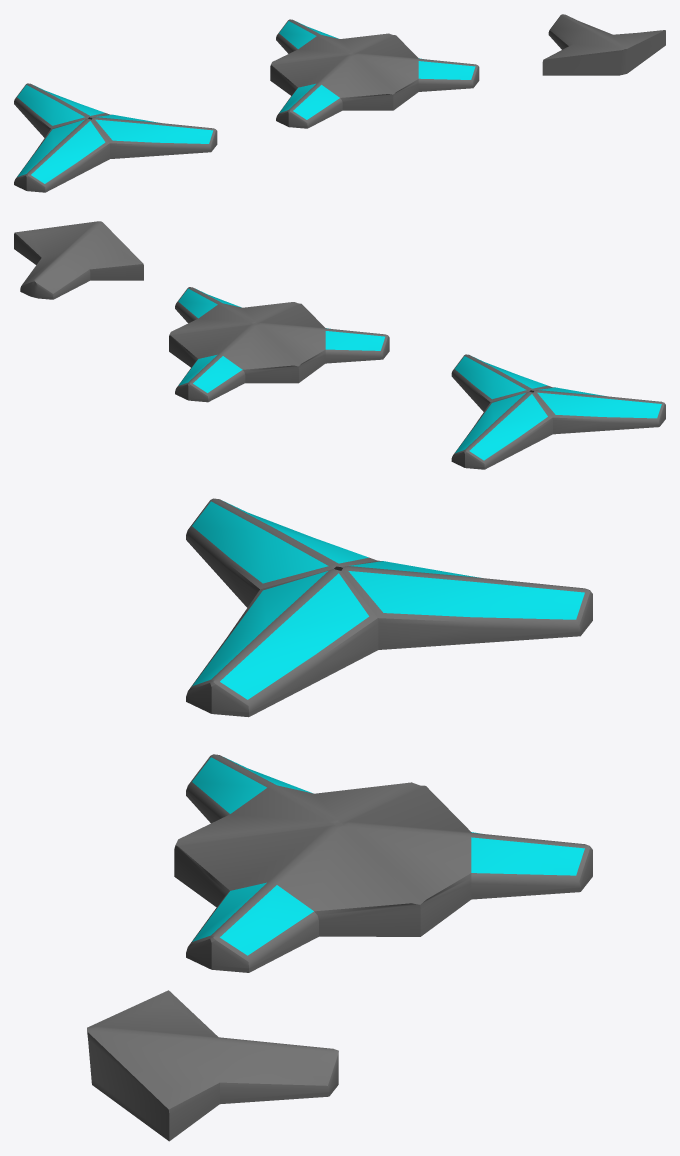
The model's file is Prop_Luces.fbx.
3 views of the same model, one above another, from view 1: azimuth 30°, elevation 25°; view 2: azimuth 150°, elevation 25°; view 3: azimuth 270°, elevation 25° (orthographic). The views are drawn at different scales.
Visible parts, largest first — view 1: Modulo.Luz.Plataforma, Modulo.Luz.Helice, Modulo.Luz.Plataforma.001; view 2: Modulo.Luz.Plataforma, Modulo.Luz.Helice, Modulo.Luz.Plataforma.001; view 3: Modulo.Luz.Plataforma, Modulo.Luz.Helice, Modulo.Luz.Plataforma.001.
Part boxes in pixels (x1,y1,x2,y2): Modulo.Luz.Plataforma: (270,19,479,128); Modulo.Luz.Helice: (14,83,217,192); Modulo.Luz.Plataforma.001: (542,14,665,75); Modulo.Luz.Plataforma: (169,287,389,402); Modulo.Luz.Helice: (451,354,665,469); Modulo.Luz.Plataforma.001: (14,221,143,299); Modulo.Luz.Plataforma: (174,754,592,972); Modulo.Luz.Helice: (186,498,592,717); Modulo.Luz.Plataforma.001: (87,990,338,1141).
Size of the model in its own units: 1206 by 48.45 by 418.
